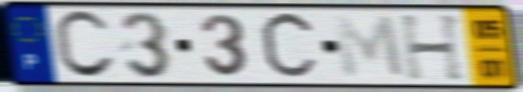3: (116, 10, 175, 82), (198, 12, 248, 80)
C: (51, 8, 119, 82), (257, 8, 321, 85)
H: (396, 12, 469, 84)
M: (331, 13, 409, 81)
